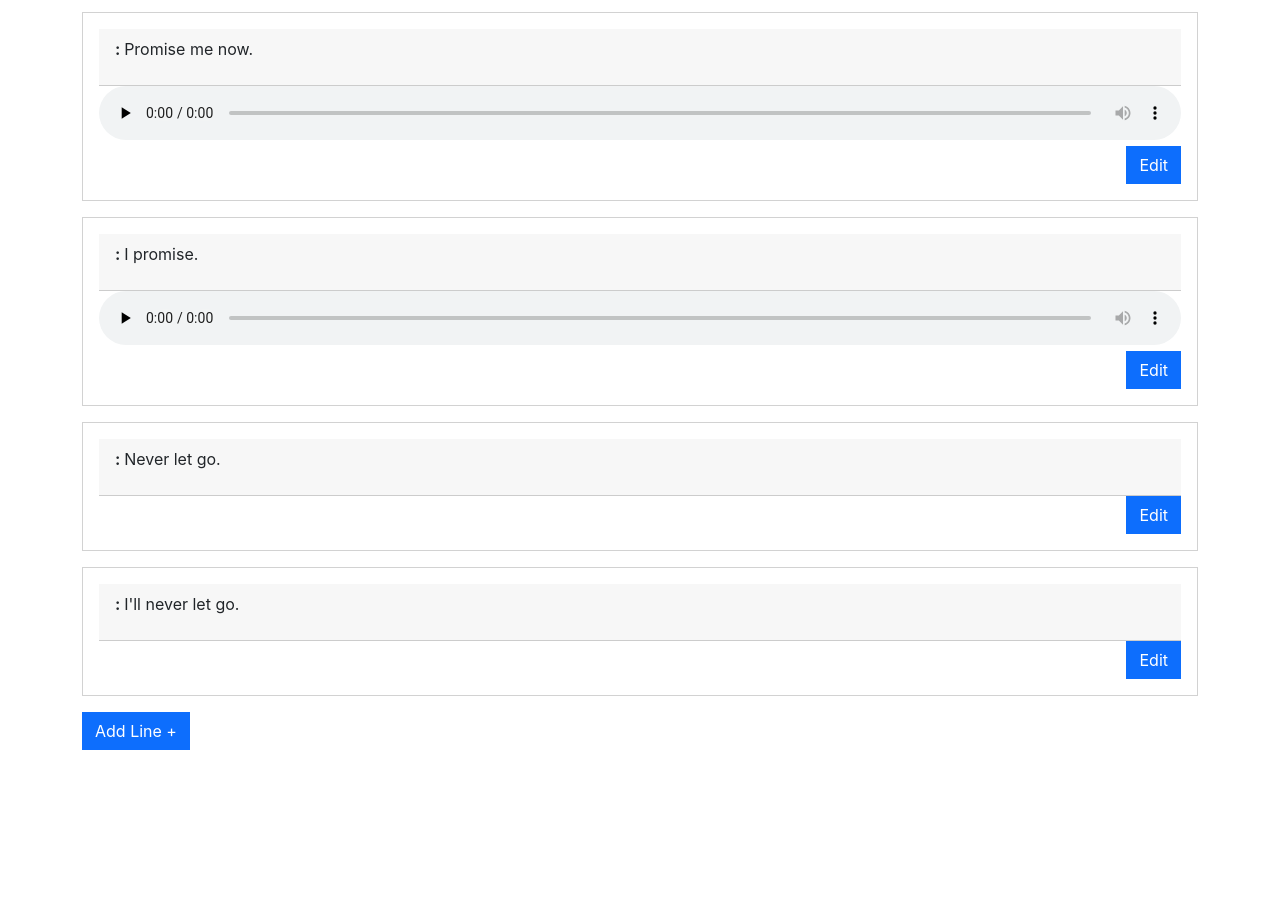
Scenario: LineListing › sumbit button
This screenshot has width=1280, height=912.
Click the 1st button "Edit".
click(1154, 165)  # box [1126,146,1181,184]
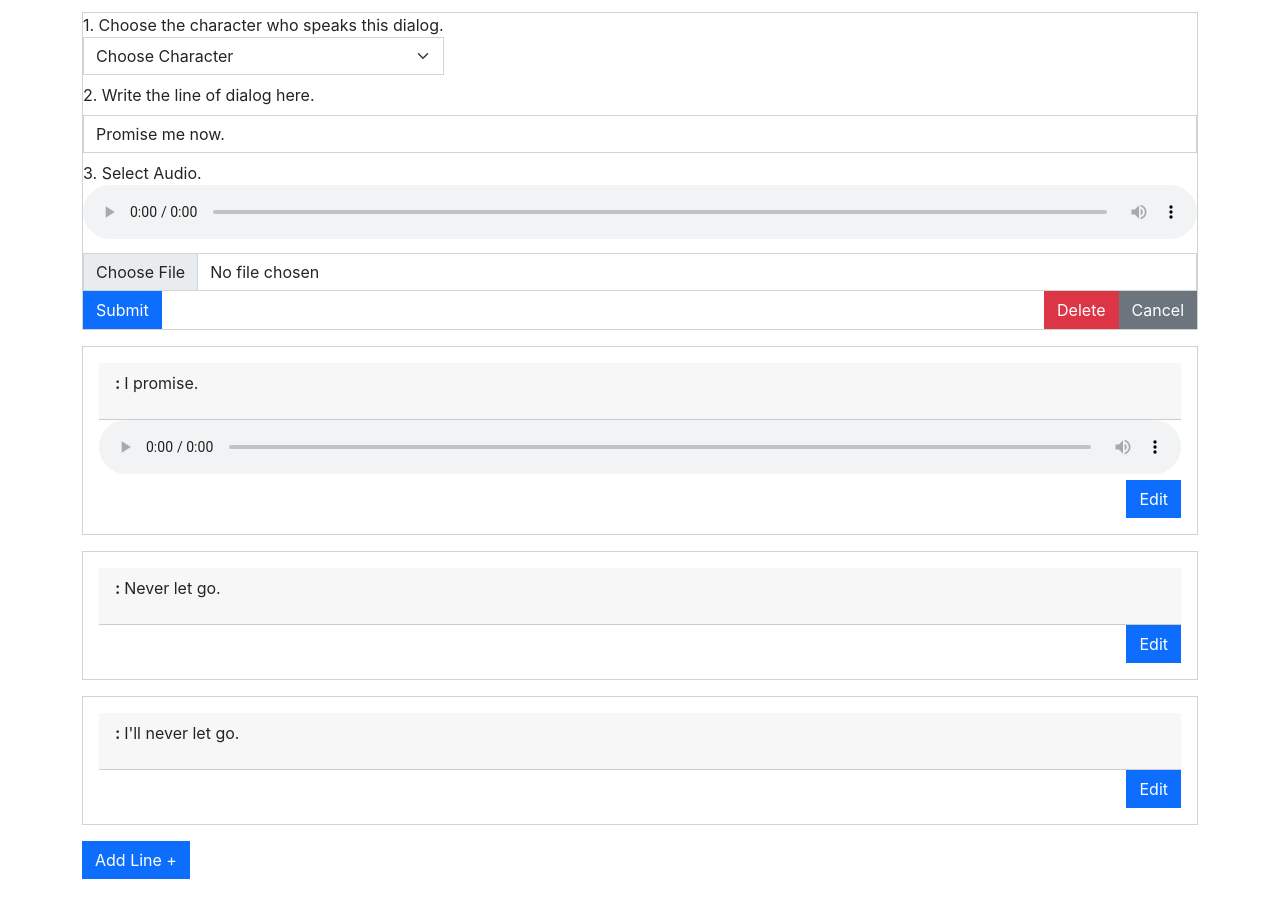
Check: the field showing "Promise me now." is shown
Replace the text in the field showing "Promise me now." with "Promise me now!" at (640, 134), box [83,115,1197,153]
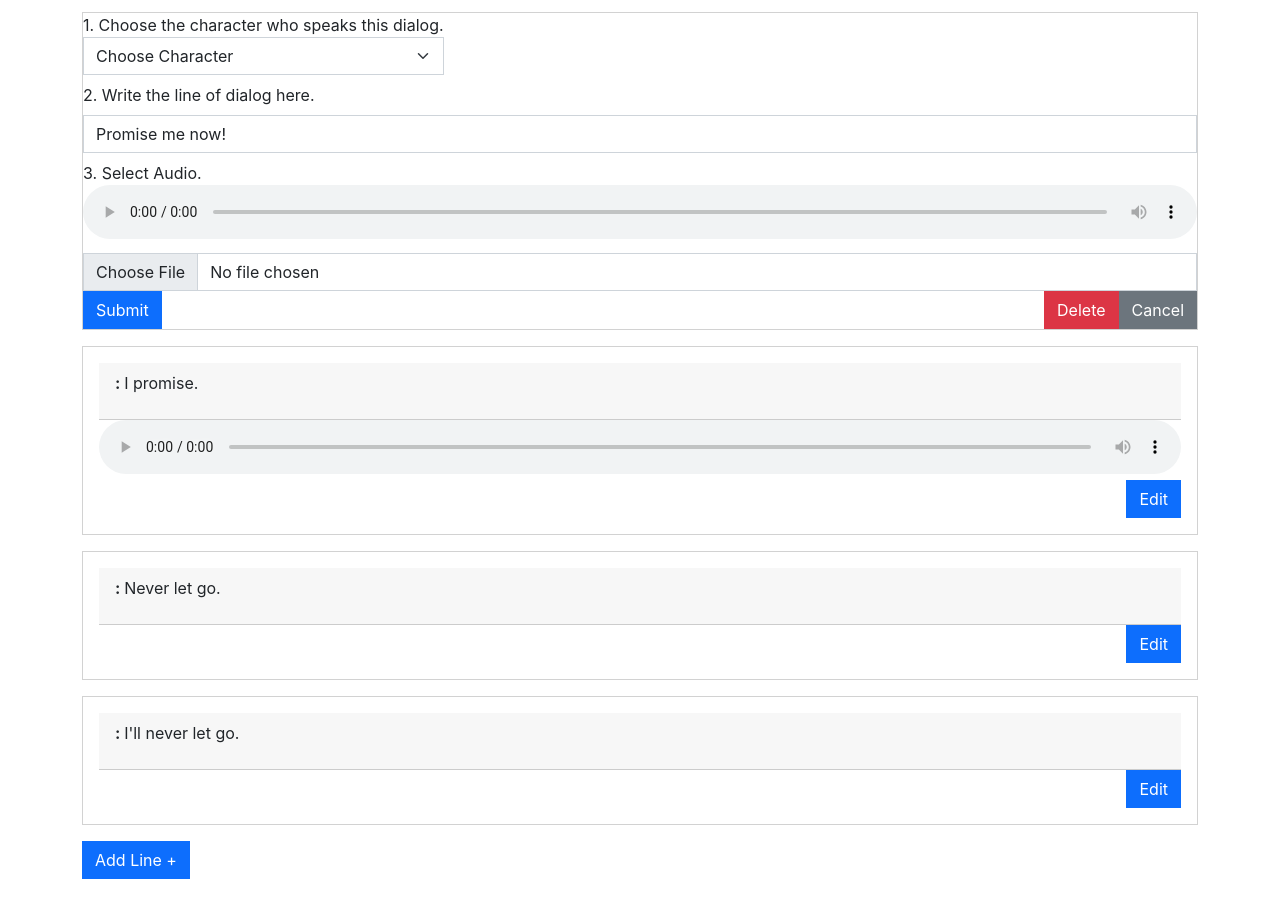
Click the button "Submit".
click(122, 310)  # box [83,291,162,329]
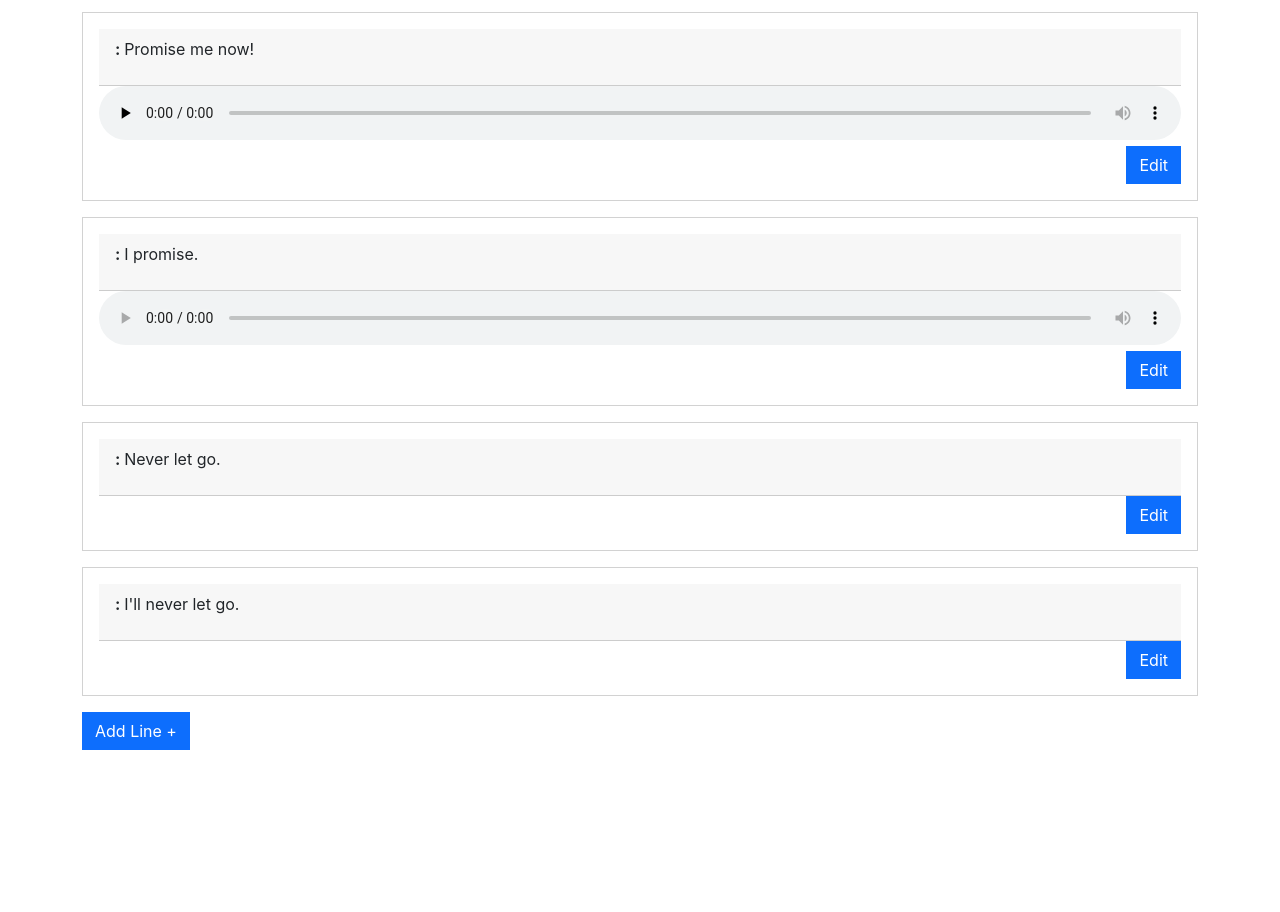
Check: the text "Promise me now." is not shown
Check: the text "Promise me now!" is shown, box [124,39,254,59]
